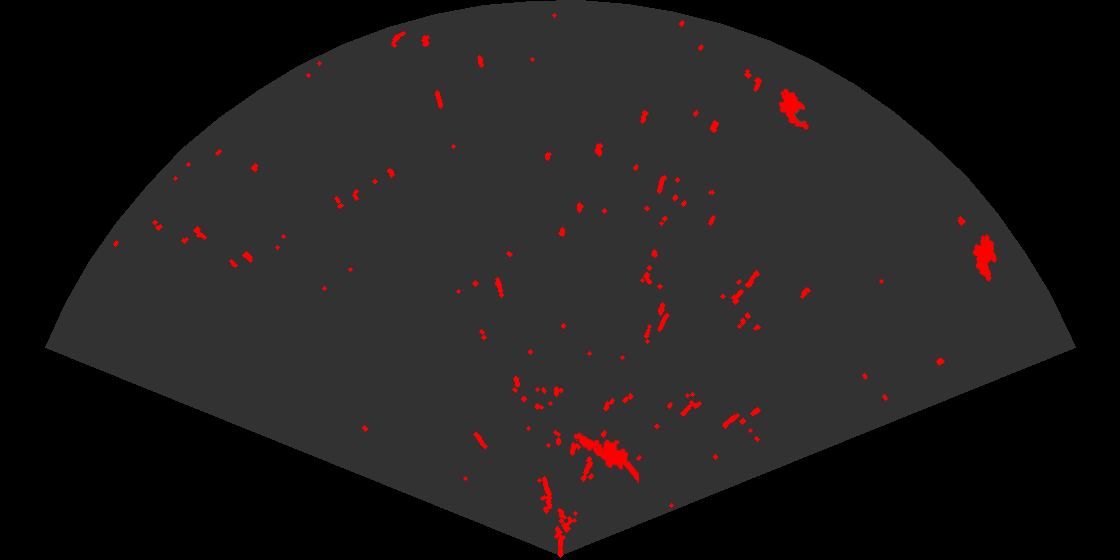AUV: (777, 87, 810, 131), (971, 233, 998, 283)
frogman: (572, 431, 639, 484)
